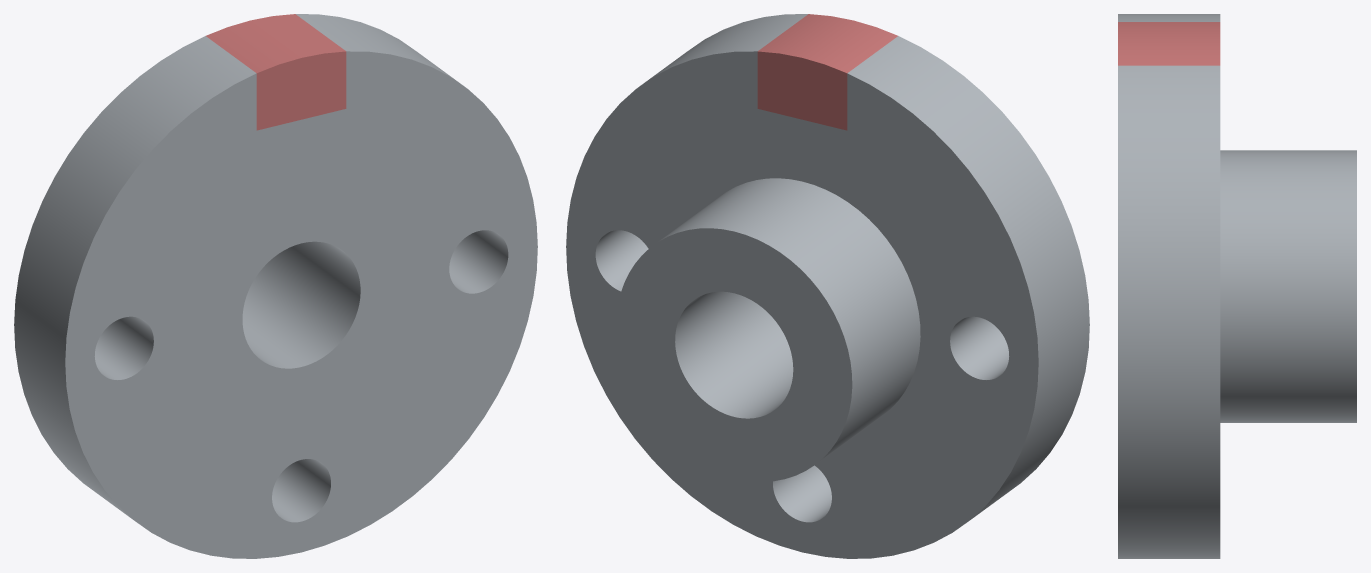
File: step_05.glb
3 renders of one model, left to right at view 1: azimuth 30°, elevation 25°; view 2: azimuth 150°, elevation 25°; view 3: azimuth 270°, elevation 25°, orthographic.
Visible parts, largest first — view 1: part__flanged locator (GDT), removed__flanged locator (GDT); view 2: part__flanged locator (GDT), removed__flanged locator (GDT); view 3: part__flanged locator (GDT), removed__flanged locator (GDT).
Part boxes in pixels (bbox=[...]): part__flanged locator (GDT): bbox=[14, 14, 537, 558]; removed__flanged locator (GDT): bbox=[206, 14, 346, 130]; part__flanged locator (GDT): bbox=[566, 14, 1089, 558]; removed__flanged locator (GDT): bbox=[757, 14, 897, 130]; part__flanged locator (GDT): bbox=[1118, 14, 1356, 558]; removed__flanged locator (GDT): bbox=[1118, 22, 1220, 65].
Size of the model in its own units: 50.8 by 50.8 by 22.23.
